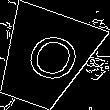O_S: (11, 27, 79, 90)
